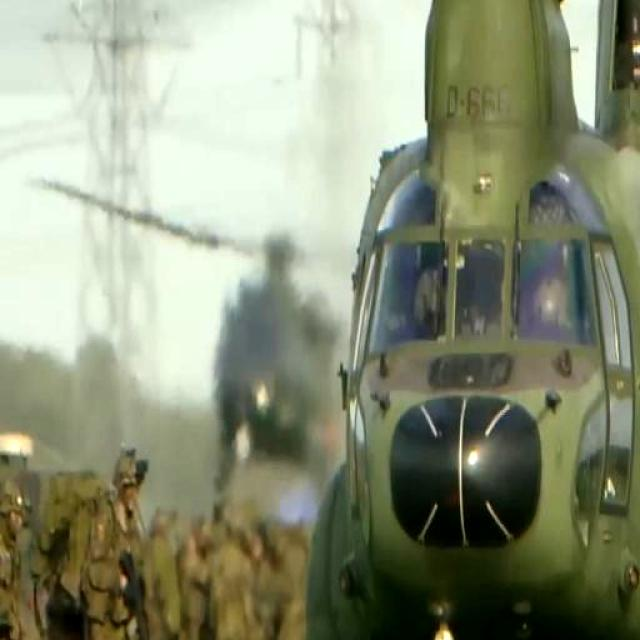drone: (290, 0, 640, 640)
